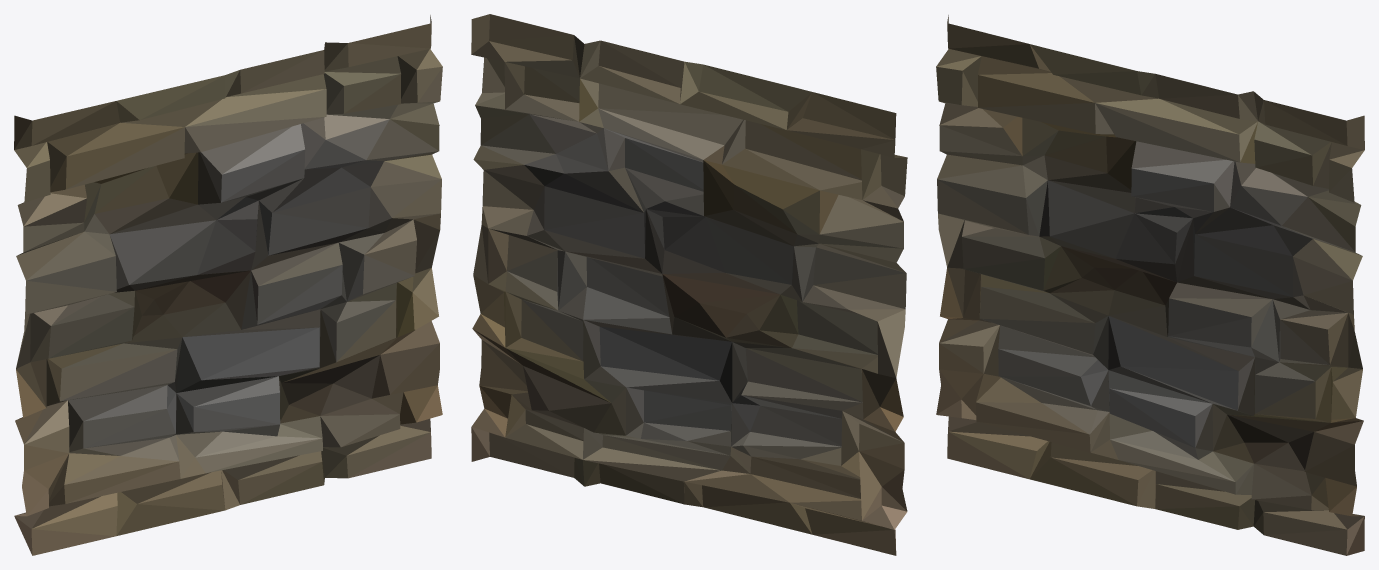
File: Wall_UG-StoneC.fbx
The picture shows the model from 3 angles, left to right: view 1: azimuth 30°, elevation 25°; view 2: azimuth 150°, elevation 25°; view 3: azimuth 330°, elevation 25°; orthographic projection.
Parts seen in each view (by area): view 1: Wall_UG-StoneC; view 2: Wall_UG-StoneC; view 3: Wall_UG-StoneC.
Part boxes in pixels (left/top/right/bottom): Wall_UG-StoneC: left=14, top=15, right=442, bottom=555; Wall_UG-StoneC: left=471, top=14, right=907, bottom=555; Wall_UG-StoneC: left=936, top=15, right=1364, bottom=555.
Bounding box in the file's own units: 400 × 400 × 40.66.
